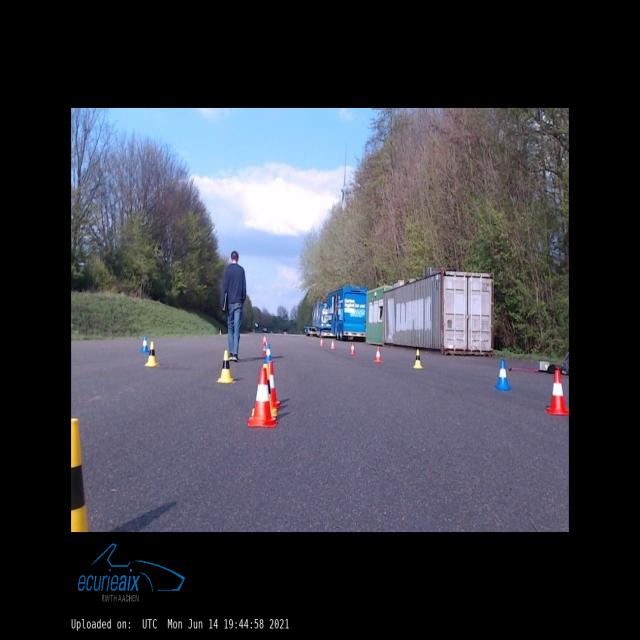blue_cone: (496, 359, 510, 391), (140, 336, 149, 352), (264, 344, 271, 362)
orange_cone: (248, 368, 277, 427), (545, 370, 569, 416), (268, 362, 282, 408), (374, 346, 382, 362), (261, 342, 266, 357), (350, 342, 356, 354), (263, 336, 267, 346), (330, 339, 334, 349), (320, 338, 324, 345)
yellow_cone: (71, 419, 88, 531), (251, 364, 278, 416), (216, 350, 235, 383), (145, 342, 157, 366), (413, 350, 423, 368)
